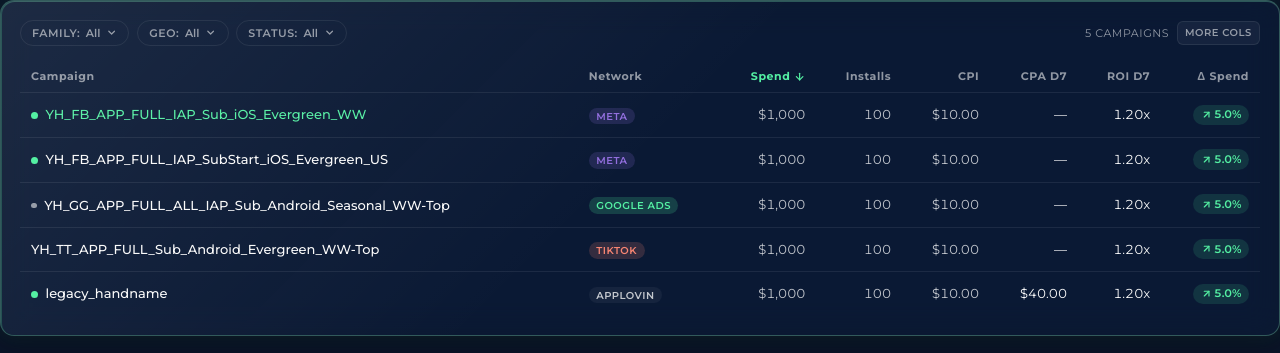
it: CampaignsTable - WS2 enrichment + chip filters › Status=Running filters to only running campaigns
Click the button with test id "campaigns-filter-status-toggle": (292, 33) [236, 20, 347, 46]
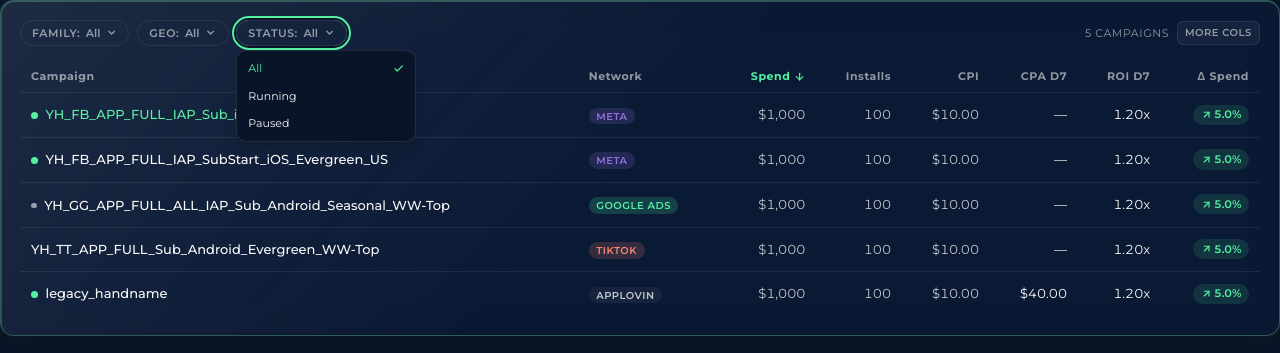
Click the option with test id "campaigns-filter-status-opt-running": (326, 96) [241, 82, 411, 110]
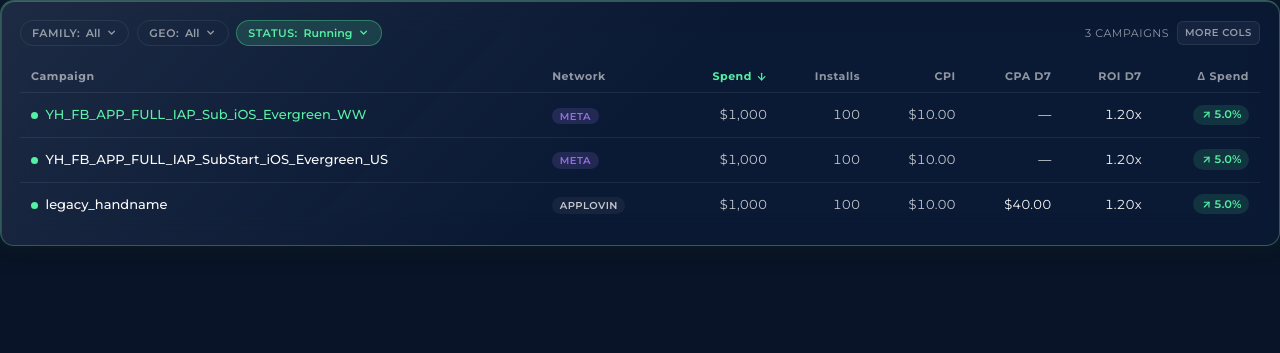
Check: the row with test id "campaign-row-c1" is shown, box [20, 93, 1260, 138]
Check: the row with test id "campaign-row-c3" is gone
Check: the row with test id "campaign-row-c4" is gone
